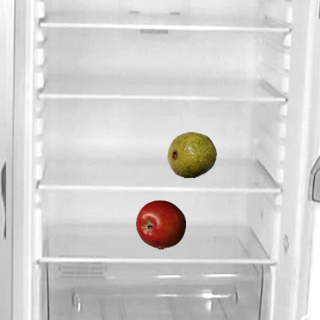Apple Braeburn: (135, 199, 185, 249)
Guava: (166, 129, 216, 179)
